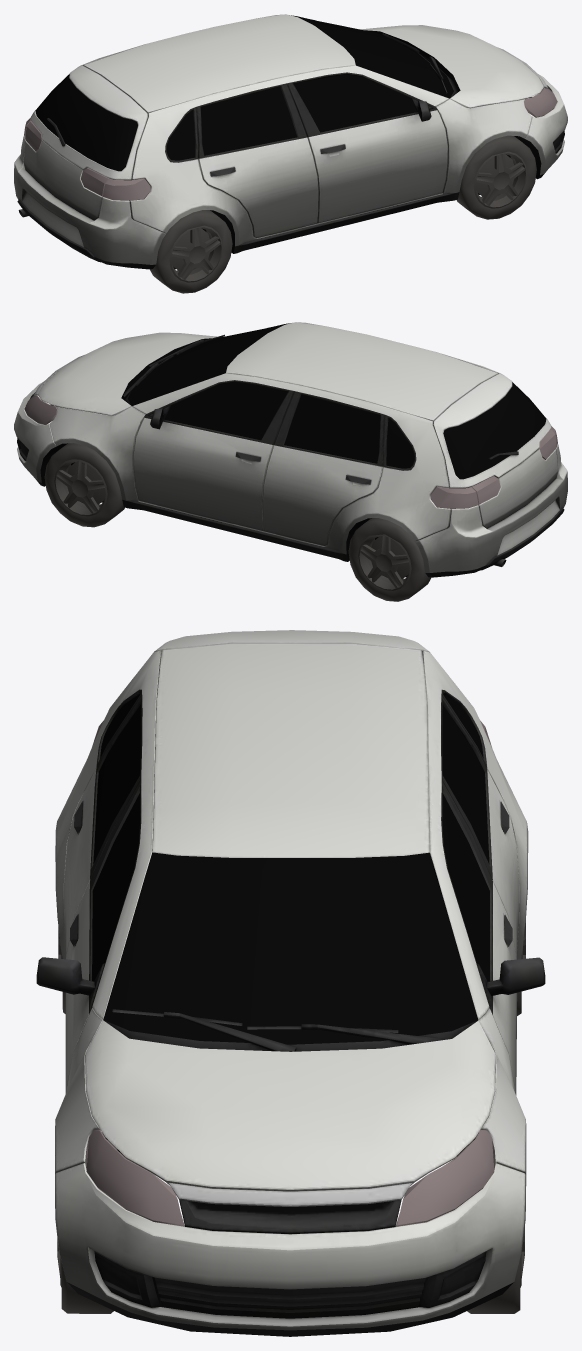
Rendered from pc-hatchback-white.lod0.glb.
3 views of the same model, one above another, from view 1: azimuth 30°, elevation 25°; view 2: azimuth 150°, elevation 25°; view 3: azimuth 270°, elevation 25° (orthographic). The views are drawn at different scales.
Visible parts, largest first — view 1: Hatchback Body_Body_0, Hatchback Body_Glass_0; view 2: Hatchback Body_Body_0, Hatchback Body_Glass_0; view 3: Hatchback Body_Body_0, Hatchback Body_Glass_0.
Boxes of the visible parts, x1=… form: Hatchback Body_Body_0: x1=14, y1=14, x2=567, y2=269; Hatchback Body_Glass_0: x1=24, y1=16, x2=557, y2=293; Hatchback Body_Body_0: x1=14, y1=322, x2=567, y2=577; Hatchback Body_Glass_0: x1=24, y1=324, x2=557, y2=601; Hatchback Body_Body_0: x1=36, y1=630, x2=545, y2=1336; Hatchback Body_Glass_0: x1=57, y1=694, x2=525, y2=1313.
Bounding box in the file's own units: 3.95 × 1.35 × 1.74.
2 materials, 1 textured.
